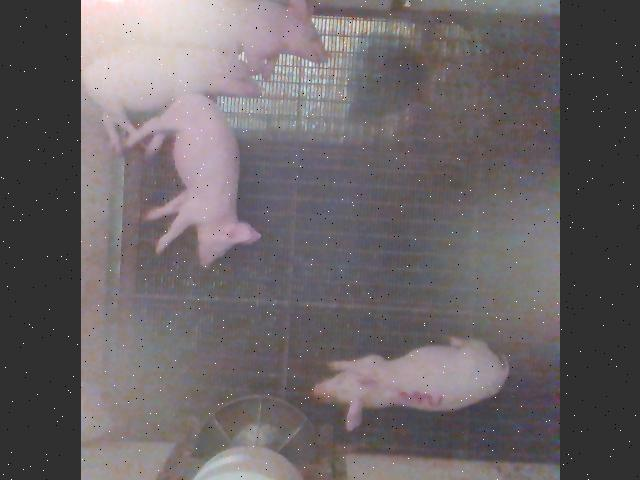pig-3: (313, 338, 508, 431)
